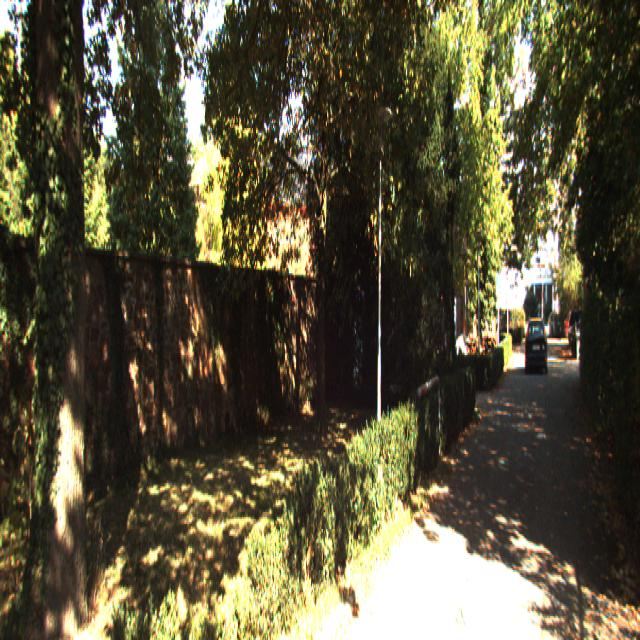Car: (526, 314, 548, 374)
